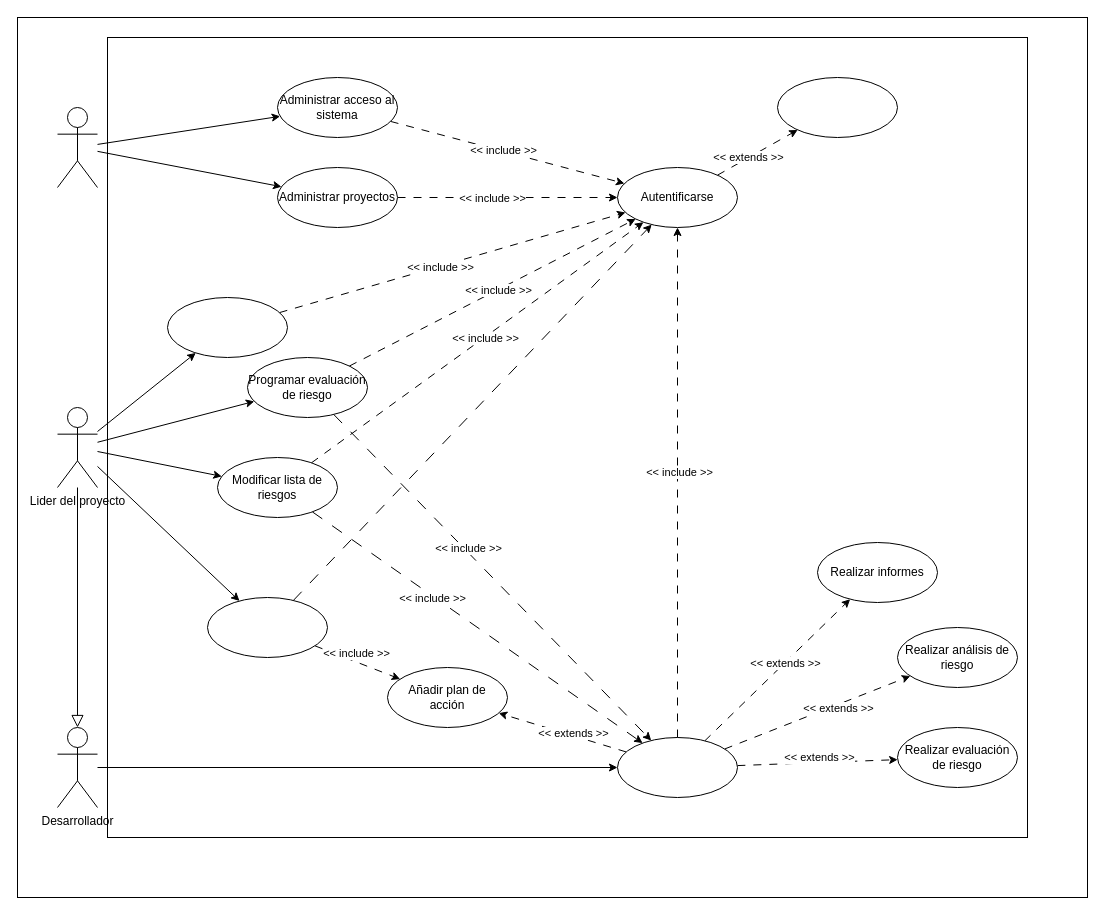
This 1105x915 diagram has some shape labels left out. The box of each missing label's shape, as (x1, y1, x2, y2) in pixels:
Administrador: (56, 106, 98, 188)
Administrar categorías de risgos: (166, 296, 288, 358)
Añadir lista de riesgos: (616, 736, 738, 798)
Exportar archivos: (776, 76, 898, 138)
Modificar plan de acción: (206, 596, 328, 658)
